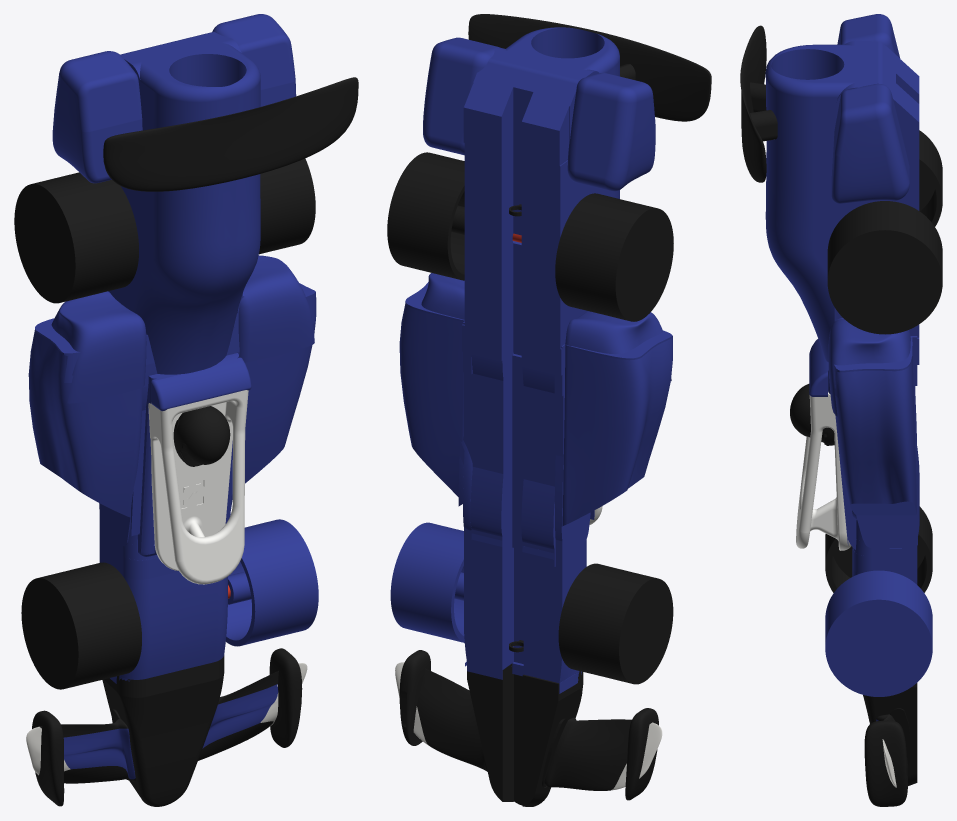
The model's file is car.fbx.
3 views of the same model, side by side, from view 1: azimuth 30°, elevation 25°; view 2: azimuth 150°, elevation 25°; view 3: azimuth 270°, elevation 25° (orthographic). The views are drawn at different scales.
Visible parts, largest first — view 1: Body16, Body1 (×6), nose cone(snake head) (1) (1) (1), rear wing, Body27, the straight part (3) (3); view 2: Body16, Body1 (×4), nose cone(snake head) (1) (1) (1), Body7, Body27, rear wing, the straight part (3) (3); view 3: Body16, Body1 (×6), the straight part (3) (3), nose cone(snake head) (1) (1) (1), rear wing, Body27.
Boxes of the visible parts, box(x1,y1,x2,y2) form: Body16: box(28, 24, 316, 554); Body1 (×6): box(14, 158, 318, 689); nose cone(snake head) (1) (1) (1): box(26, 648, 307, 806); rear wing: box(103, 77, 358, 191); Body27: box(99, 532, 227, 683); the straight part (3) (3): box(218, 14, 296, 106); Body16: box(399, 27, 672, 561); Body1 (×4): box(387, 152, 673, 684); nose cone(snake head) (1) (1) (1): box(395, 650, 662, 806); Body7: box(470, 354, 555, 567); Body27: box(464, 531, 586, 693); rear wing: box(468, 14, 711, 121); the straight part (3) (3): box(423, 37, 499, 155); Body16: box(765, 14, 919, 548); Body1 (×6): box(790, 130, 942, 696); the straight part (3) (3): box(831, 84, 909, 203); nose cone(snake head) (1) (1) (1): box(863, 683, 917, 806); rear wing: box(740, 25, 777, 182); Body27: box(848, 537, 917, 584).
Size of the model in its own units: 79.51 by 209 by 52.77.
